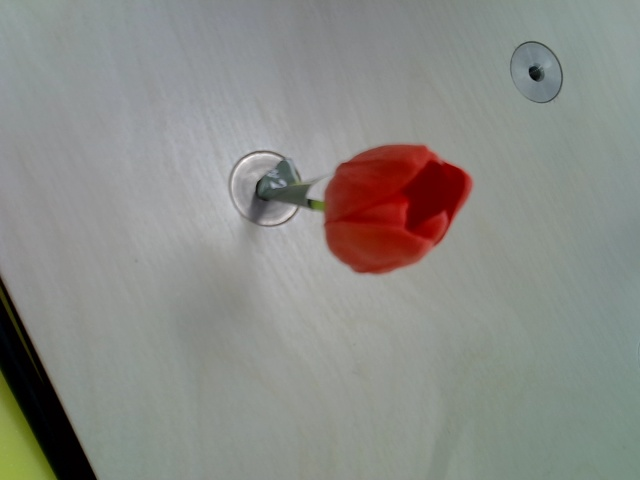튤립: (320, 143, 476, 276)
